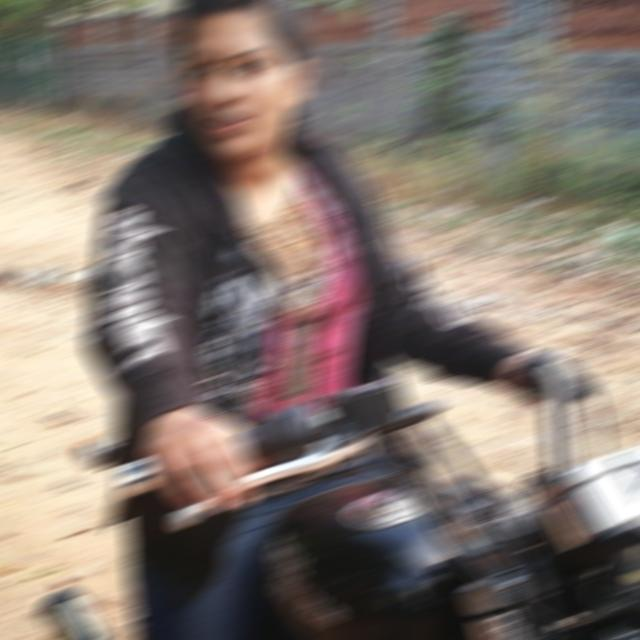Without Helmet: (156, 1, 322, 170)
